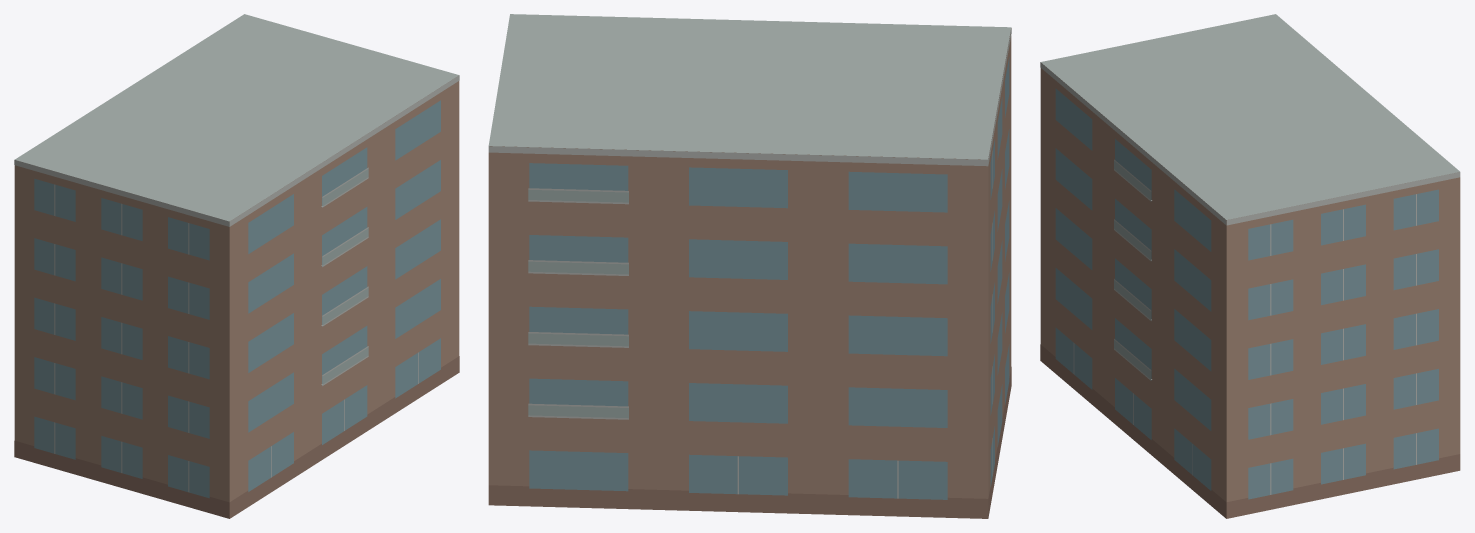
File: survey-upis-32701962.glb
3 renders of one model, left to right at view 1: azimuth 30°, elevation 25°; view 2: azimuth 150°, elevation 25°; view 3: azimuth 270°, elevation 25°, orthographic. The views are drawn at different scales.
Visible parts, largest first — view 1: survey-upis-32701962.tmp; view 2: survey-upis-32701962.tmp; view 3: survey-upis-32701962.tmp.
Boxes of the visible parts, bbox=[...] form: survey-upis-32701962.tmp: bbox=[14, 14, 459, 518]; survey-upis-32701962.tmp: bbox=[488, 14, 1011, 518]; survey-upis-32701962.tmp: bbox=[1040, 14, 1460, 518].
Size of the model in its own units: 19.83 by 13.4 by 17.08.
